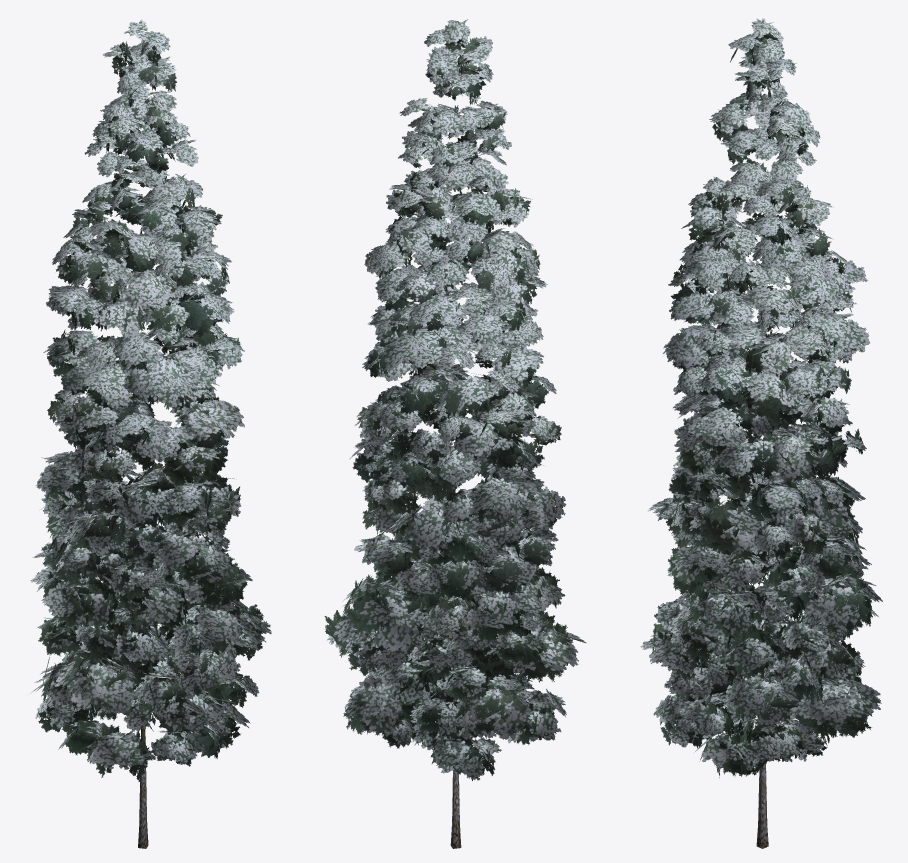
The model's file is mm6_deco_snotre05.glb.
The picture shows the model from 3 angles, left to right: view 1: azimuth 30°, elevation 25°; view 2: azimuth 150°, elevation 25°; view 3: azimuth 270°, elevation 25°; orthographic projection.
Parts seen in each view (by area): view 1: Tree; view 2: Tree; view 3: Tree.
Boxes of the visible parts, bbox=[...] form: Tree: bbox=[27, 19, 271, 848]; Tree: bbox=[324, 19, 586, 848]; Tree: bbox=[640, 18, 882, 848].
Bounding box in the file's own units: 0.9654 × 3.09 × 0.8865.
2 materials, 2 textured.
